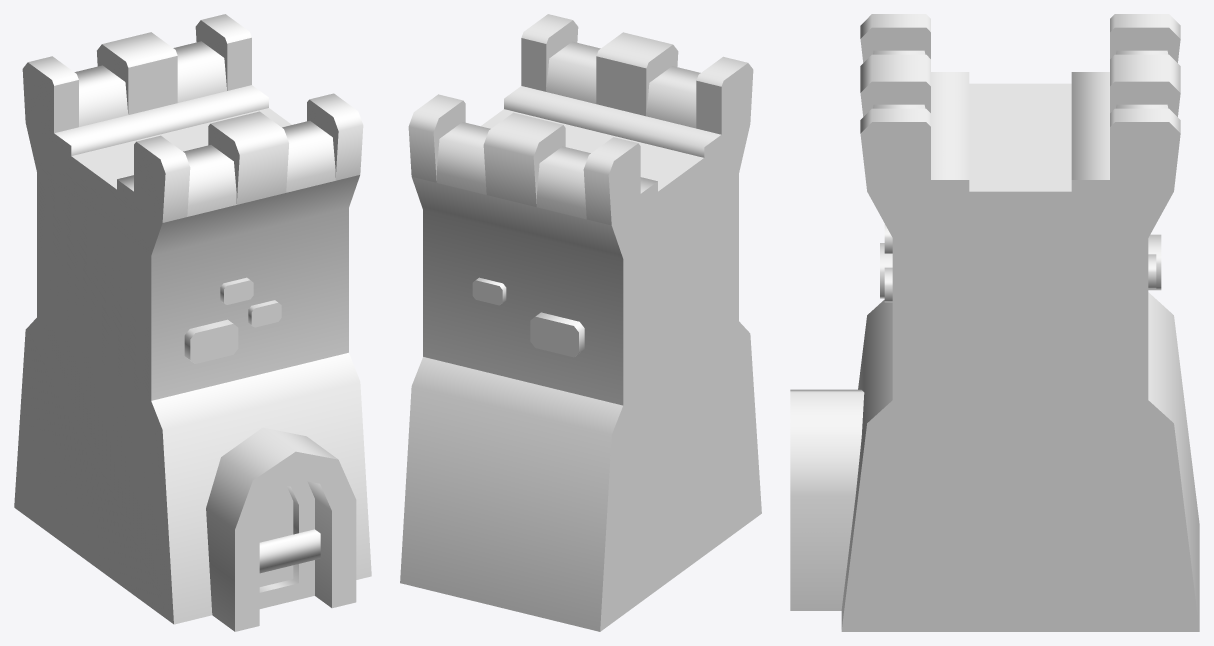
File: castle-door.glb
3 renders of one model, left to right at view 1: azimuth 30°, elevation 25°; view 2: azimuth 150°, elevation 25°; view 3: azimuth 270°, elevation 25°, orthographic. The views are drawn at different scales.
Visible parts, largest first — view 1: castle-door; view 2: castle-door; view 3: castle-door.
Part boxes in pixels (bbox=[...]): castle-door: bbox=[14, 14, 371, 631]; castle-door: bbox=[400, 14, 761, 631]; castle-door: bbox=[790, 14, 1199, 631].
Size of the model in its own units: 2 by 4.4 by 3.2.
Materials: 1 (1 with a texture image).
